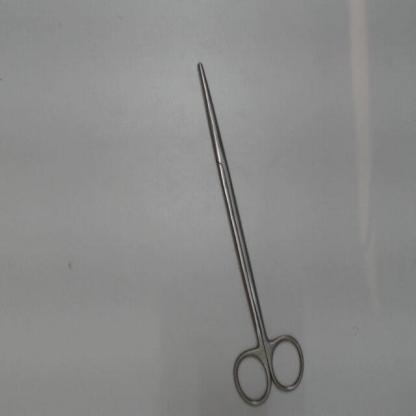9 Metzenbaum Scissors: (192, 56, 312, 412)
